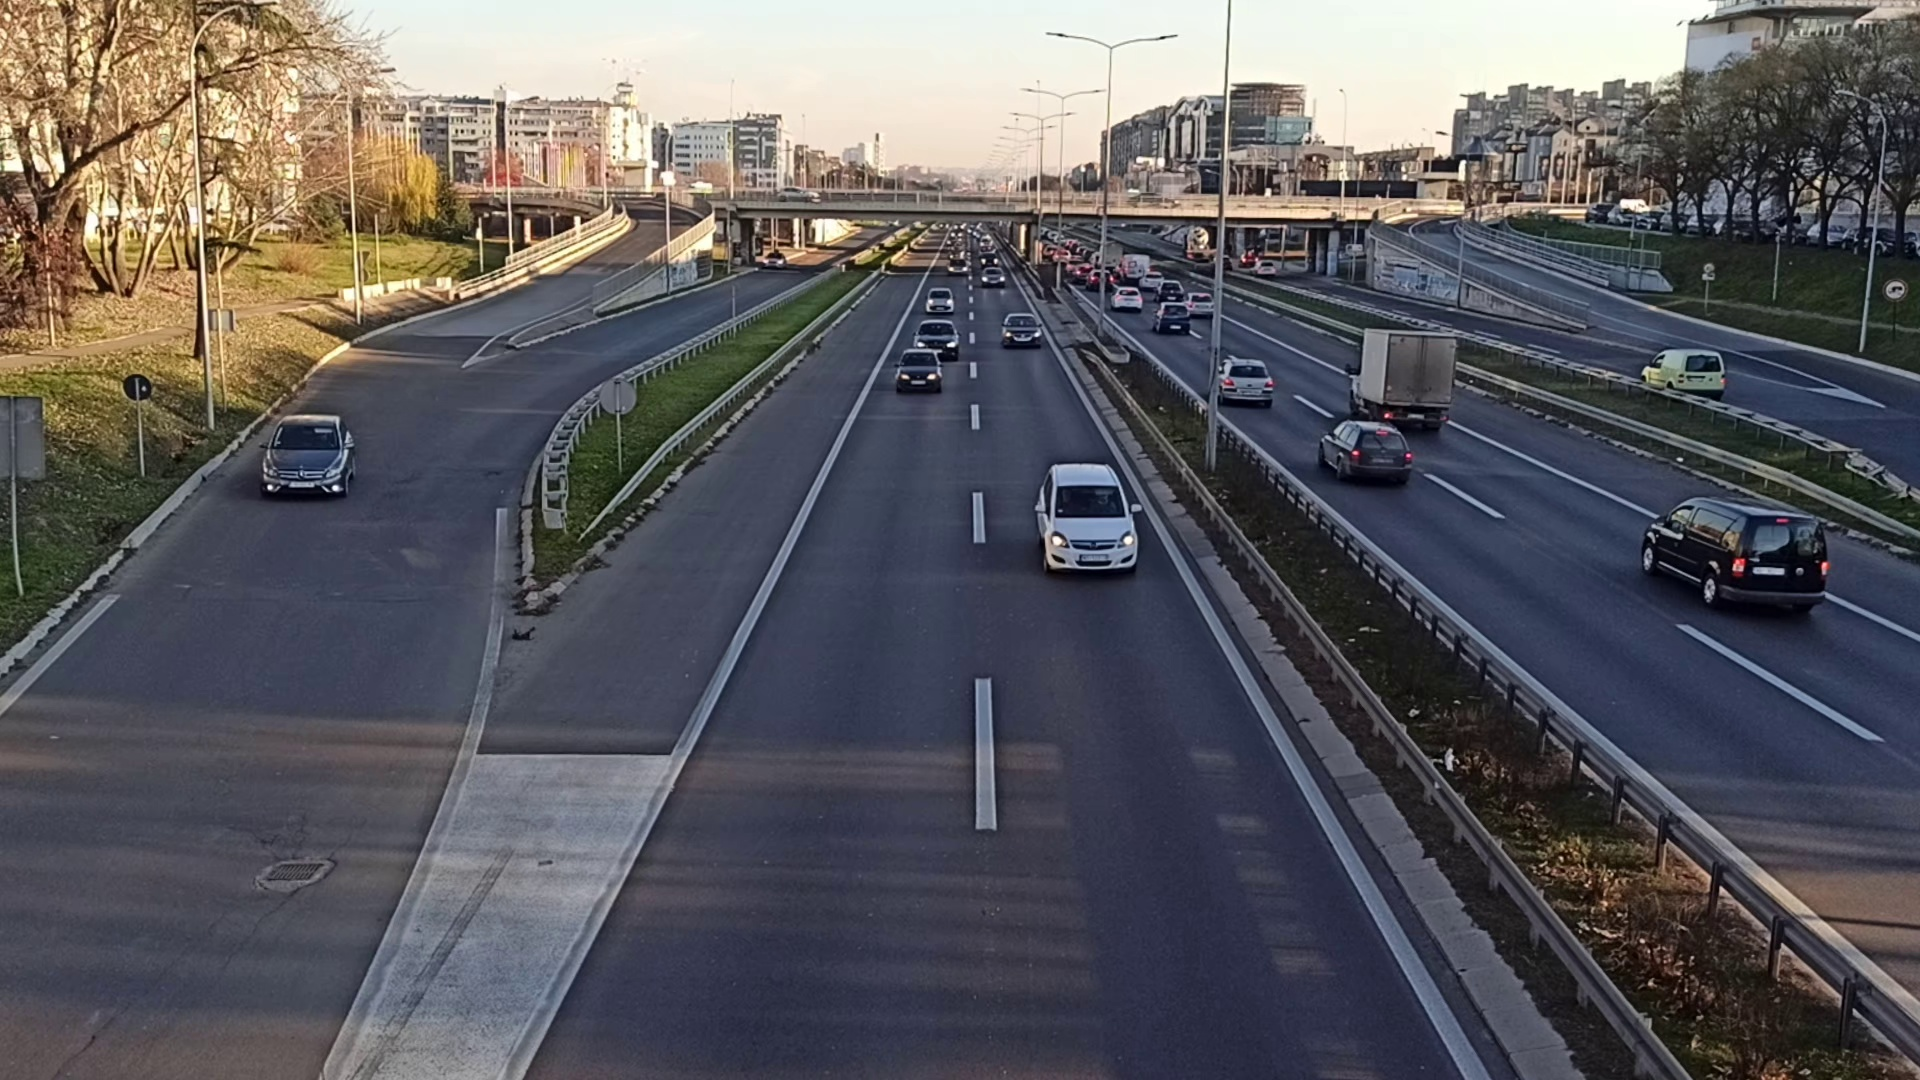car: (1644, 495, 1828, 621), (1033, 462, 1139, 579), (262, 413, 356, 495), (1317, 419, 1415, 484), (1216, 356, 1273, 411), (895, 351, 942, 394), (1000, 314, 1043, 348), (915, 320, 957, 352), (1154, 303, 1185, 332), (926, 286, 953, 311), (1185, 291, 1213, 315), (982, 268, 1005, 285)
truck: (1345, 328, 1455, 430)
van: (1643, 349, 1726, 400)
